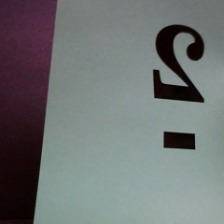green2: (142, 19, 216, 161)
